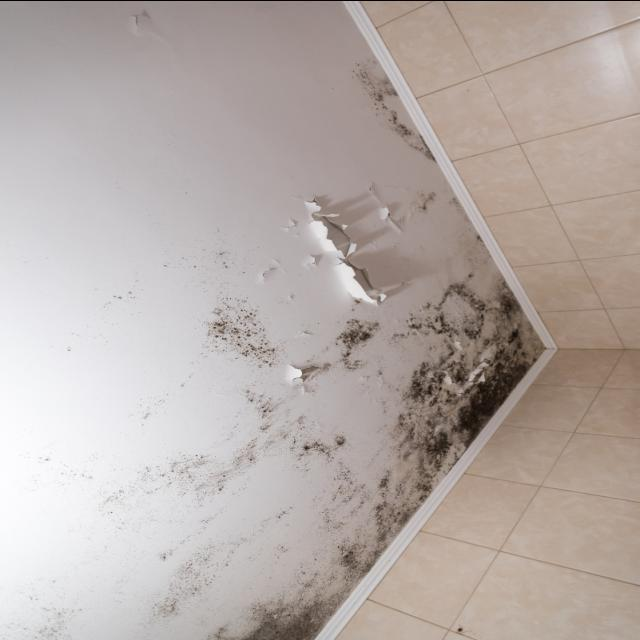leak: (94, 188, 320, 640), (326, 166, 536, 544)
